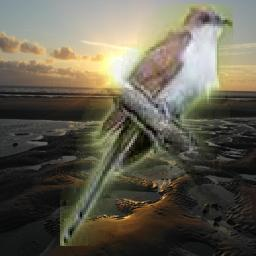Cuckoo: (61, 4, 234, 246)
